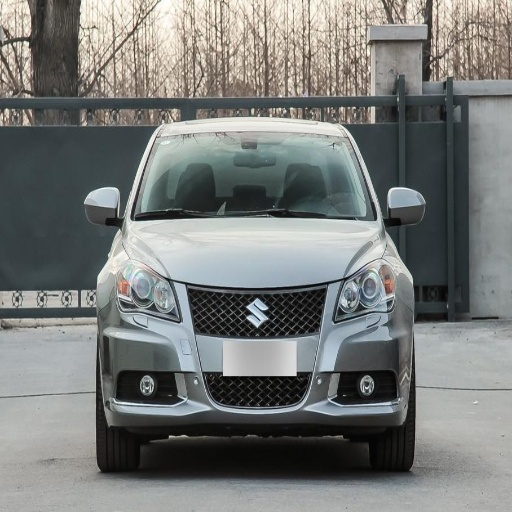front_bumper: (102, 279, 411, 424)
front_right_light: (116, 259, 181, 320)
hood: (125, 220, 385, 287)
left_mirror: (385, 188, 426, 227)
